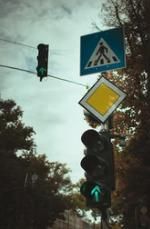green_light: (80, 129, 111, 208), (36, 43, 48, 77)
